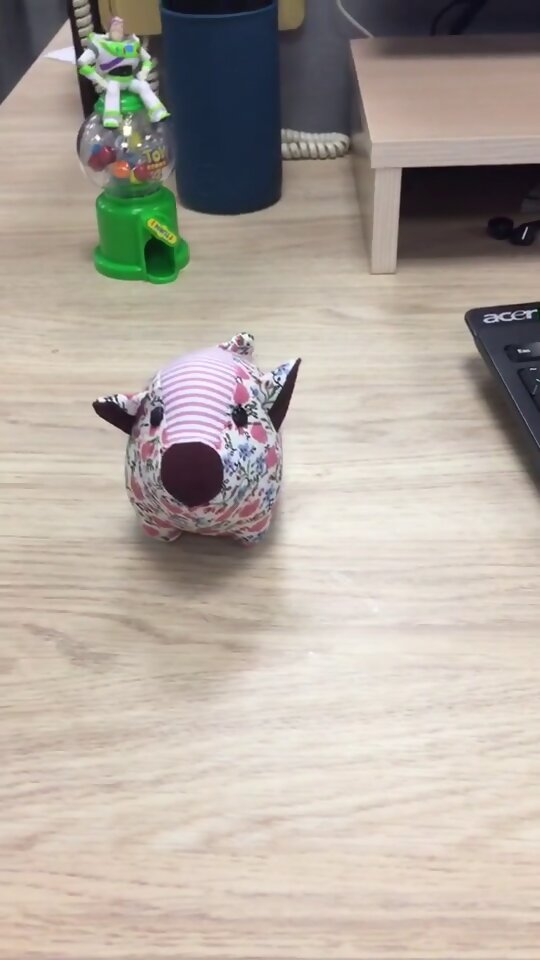pig: (86, 329, 304, 556)
